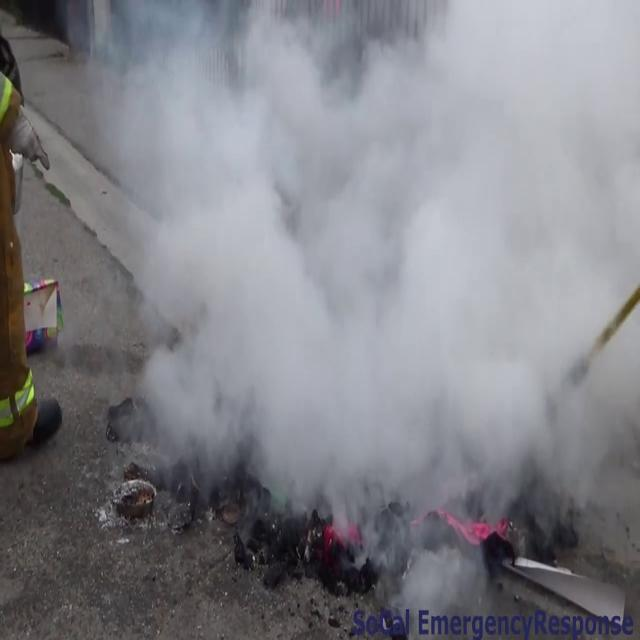Smoke: (71, 0, 640, 605)
